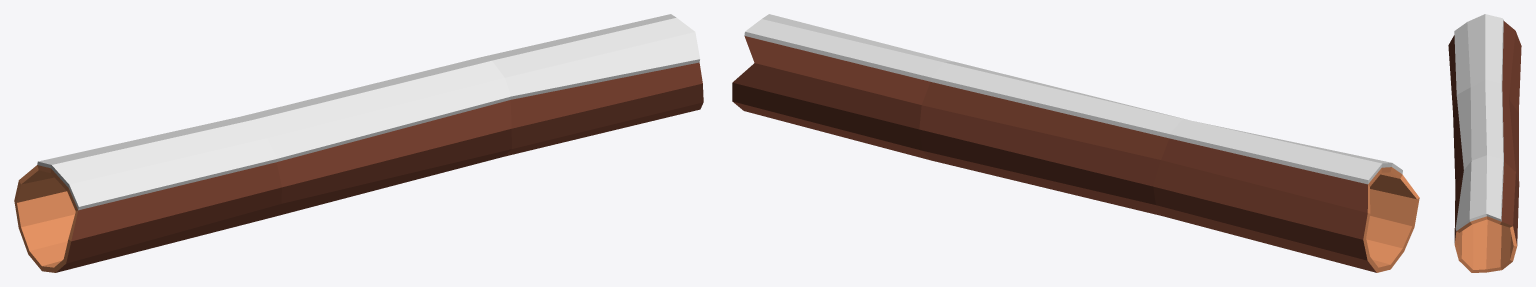
The model's file is pine_trunk_type_10_extra_LOD0.fbx.
The picture shows the model from 3 angles, left to right: view 1: azimuth 30°, elevation 25°; view 2: azimuth 150°, elevation 25°; view 3: azimuth 270°, elevation 25°; orthographic projection. The views are drawn at different scales.
Parts seen in each view (by area): view 1: pt_type_10_save.002; view 2: pt_type_10_save.002; view 3: pt_type_10_save.002.
Part boxes in pixels (left/top/right/bottom): pt_type_10_save.002: left=14, top=14, right=703, bottom=272; pt_type_10_save.002: left=732, top=14, right=1419, bottom=272; pt_type_10_save.002: left=1448, top=14, right=1521, bottom=272.
Bounding box in the file's own units: 807 × 125 × 123.
